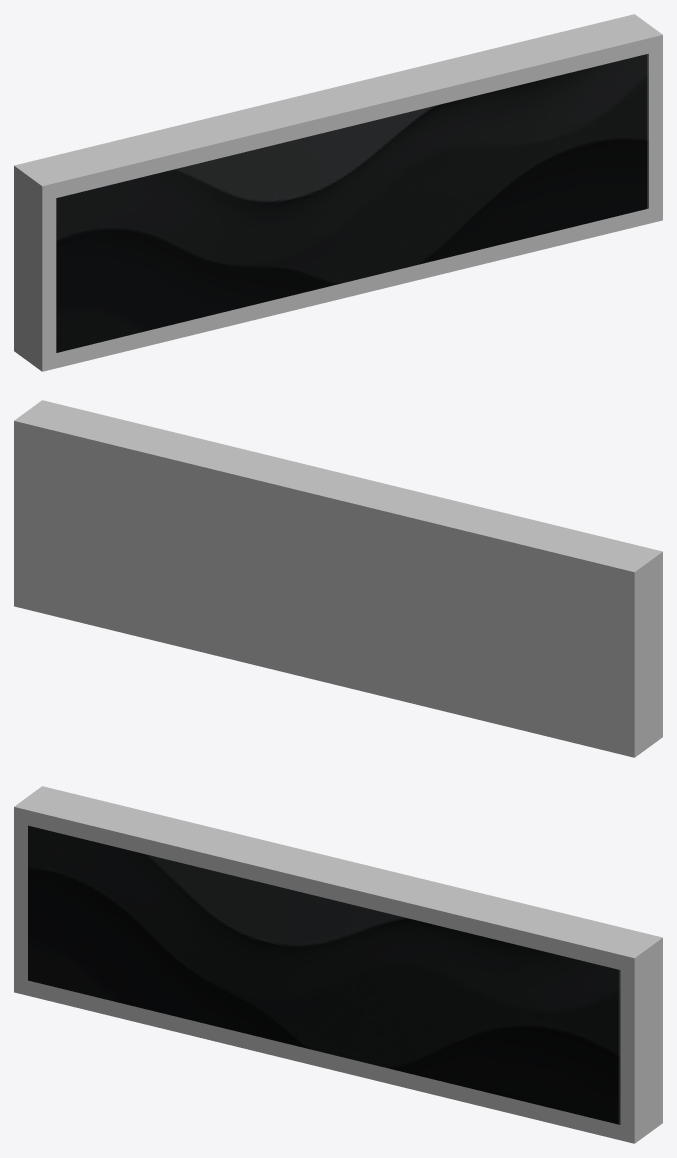
File: Billboard_4x1_02.fbx
3 renders of one model, top to bottom at view 1: azimuth 30°, elevation 25°; view 2: azimuth 150°, elevation 25°; view 3: azimuth 330°, elevation 25°, orthographic.
Visible parts, largest first — view 1: Billboard_4x1_02; view 2: Billboard_4x1_02; view 3: Billboard_4x1_02.
Part boxes in pixels (x1,y1,x2,y2): Billboard_4x1_02: (14,14,662,371); Billboard_4x1_02: (14,400,662,757); Billboard_4x1_02: (14,786,662,1143).
Size of the model in its own units: 962 by 75.97 by 275.
